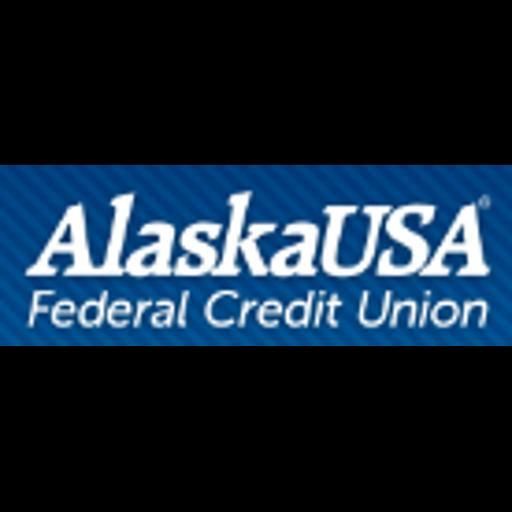Alaska USA Federal Credit Union: (0, 165, 512, 346)
